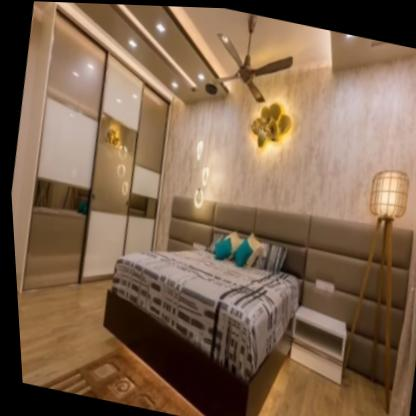Bed: (80, 173, 313, 416)
Closet: (1, 0, 166, 303)
Wooden floor: (13, 277, 198, 416), (249, 355, 383, 416)
